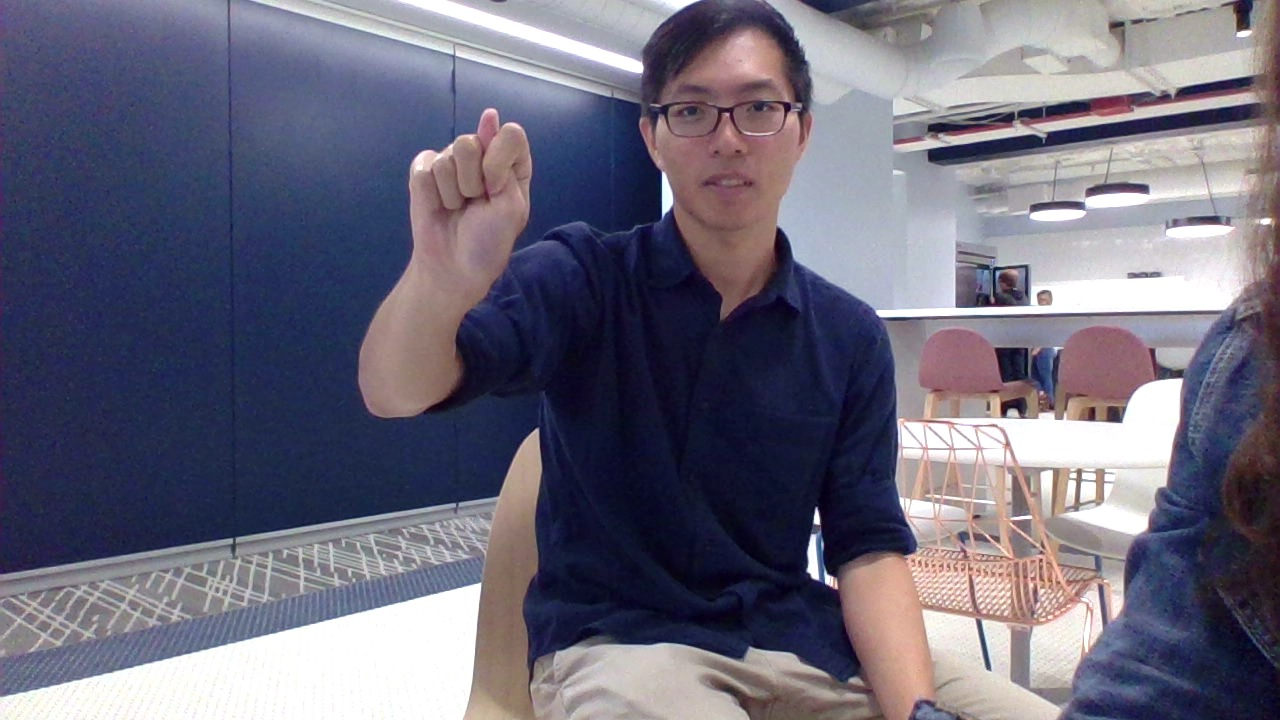t: (394, 94, 550, 307)
